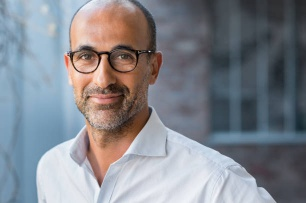male: (65, 13, 154, 134)
